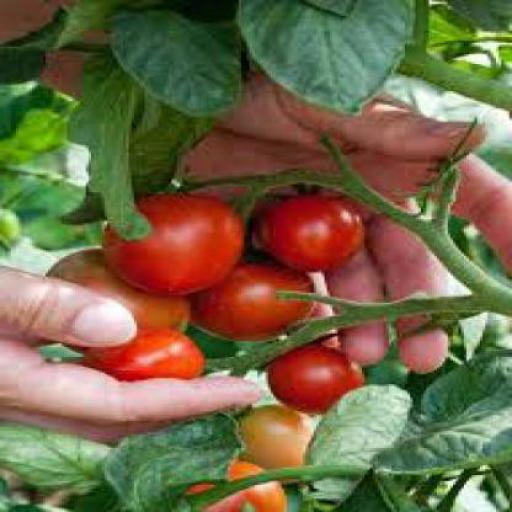biodegradable: (46, 248, 193, 349), (106, 188, 247, 293), (194, 252, 316, 335), (254, 190, 365, 276), (80, 326, 204, 382), (236, 404, 324, 481), (274, 340, 367, 407), (184, 460, 286, 510), (27, 212, 89, 254)
